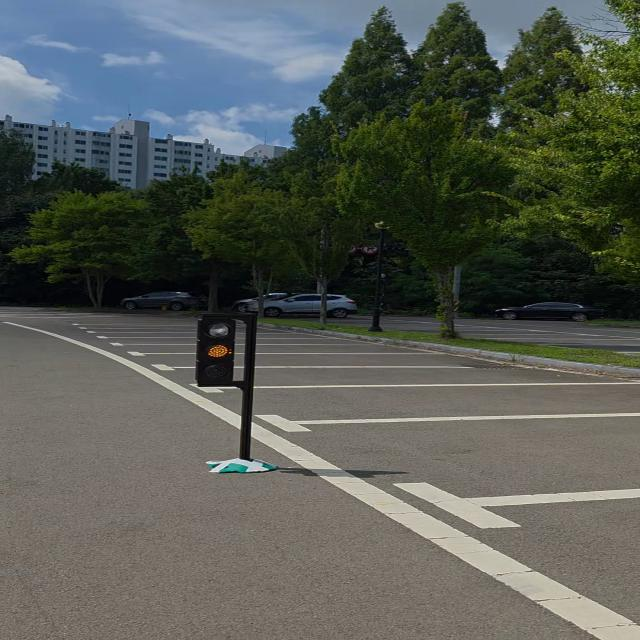yellow: (192, 314, 244, 392)
